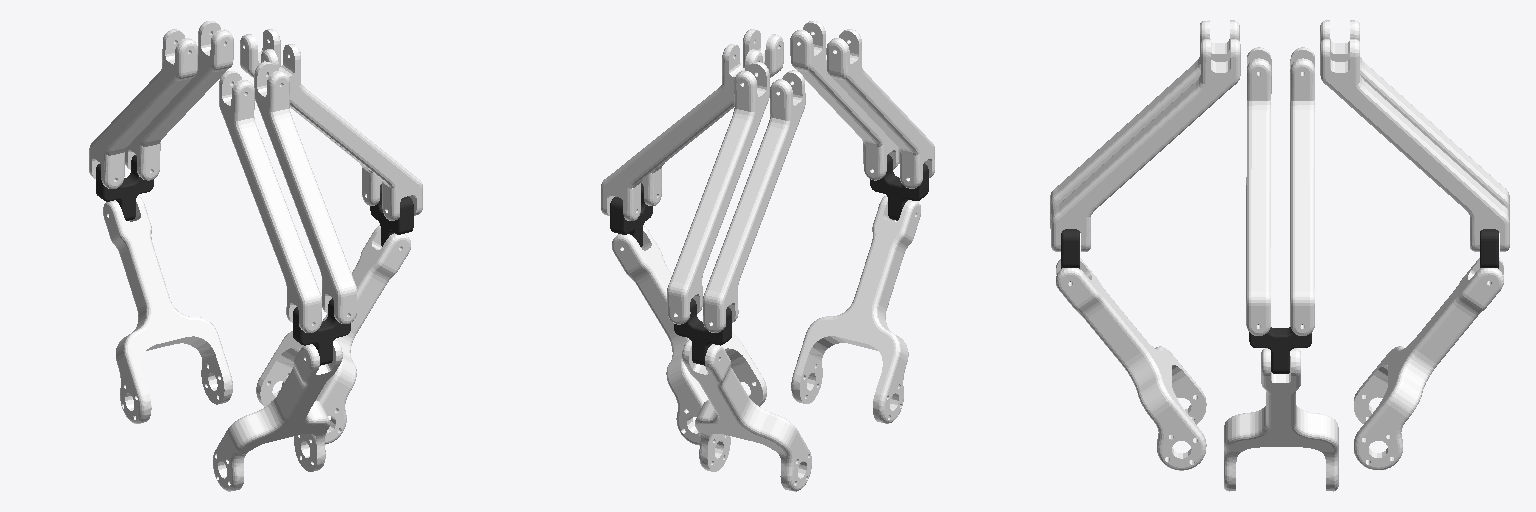
robot.urdf — blue04:
<?xml version="1.0" encoding="utf-8"?>
<!-- This URDF was automatically created by SolidWorks to URDF Exporter! Originally created by [author] ([email redacted]) 
     Commit Version: 1.6.0-1-g15f4949  Build Version: 1.6.7594.29634
     For more information, please see http://wiki.ros.org/sw_urdf_exporter -->
<robot
  name="blue04">
  <link
    name="base_link">
    <inertial>
      <origin
        xyz="0.00018086 0.0010067 0.018019"
        rpy="0 0 0" />
      <mass
        value="0.22207" />
      <inertia
        ixx="0.00013052"
        ixy="2.0278E-08"
        ixz="4.1118E-07"
        iyy="0.00024183"
        iyz="-1.5117E-06"
        izz="0.00033067" />
    </inertial>
    <visual>
      <origin
        xyz="0 0 0"
        rpy="0 0 0" />
      <geometry>
        <mesh
          filename="package://blue04/meshes/base_link.STL" />
      </geometry>
      <material
        name="">
        <color
          rgba="0.75294 0.75294 0.75294 1" />
      </material>
    </visual>
    <collision>
      <origin
        xyz="0 0 0"
        rpy="0 0 0" />
      <geometry>
        <mesh
          filename="package://blue04/meshes/base_link.STL" />
      </geometry>
    </collision>
  </link>
  <link
    name="Link11">
    <inertial>
      <origin
        xyz="0.034317 0.0034451 1.1483E-10"
        rpy="0 0 0" />
      <mass
        value="0.016849" />
      <inertia
        ixx="2.7733E-06"
        ixy="-3.2211E-07"
        ixz="2.2254E-12"
        iyy="1.215E-05"
        iyz="4.9643E-13"
        izz="9.9216E-06" />
    </inertial>
    <visual>
      <origin
        xyz="0 0 0"
        rpy="0 0 0" />
      <geometry>
        <mesh
          filename="package://blue04/meshes/Link11.STL" />
      </geometry>
      <material
        name="11">
        <color
          rgba="1 1 1 1" />
      </material>
    </visual>
    <collision>
      <origin
        xyz="0 0 0"
        rpy="0 0 0" />
      <geometry>
        <mesh
          filename="package://blue04/meshes/Link11.STL" />
      </geometry>
    </collision>
  </link>
  <joint
    name="Joint11"
    type="revolute">
    <origin
      xyz="0.028 -0.0395 0.040325"
      rpy="1.5708 -0.93176 -1.5708" />
    <parent
      link="base_link" />
    <child
      link="Link11" />
    <axis
      xyz="0 0 -1" />
    <limit
      lower="-1.57"
      upper="1.57"
      effort="10"
      velocity="10" />
  </joint>
  <link
    name="Link21">
    <inertial>
      <origin
        xyz="0.011918 1.7764E-15 -9.6798E-16"
        rpy="0 0 0" />
      <mass
        value="0.0028359" />
      <inertia
        ixx="1.5845E-07"
        ixy="3.2513E-24"
        ixz="3.4417E-24"
        iyy="2.6992E-07"
        iyz="6.8233E-25"
        izz="1.3803E-07" />
    </inertial>
    <visual>
      <origin
        xyz="0 0 0"
        rpy="0 0 0" />
      <geometry>
        <mesh
          filename="package://blue04/meshes/Link21.STL" />
      </geometry>
      <material
        name="">
        <color
          rgba="0.25098 0.25098 0.25098 1" />
      </material>
    </visual>
    <collision>
      <origin
        xyz="0 0 0"
        rpy="0 0 0" />
      <geometry>
        <mesh
          filename="package://blue04/meshes/Link21.STL" />
      </geometry>
    </collision>
  </link>
  <joint
    name="Joint21"
    type="revolute">
    <origin
      xyz="0.08 0.004 -0.0002"
      rpy="0 0 0.63903" />
    <parent
      link="Link11" />
    <child
      link="Link21" />
    <axis
      xyz="0 0 1" />
    <limit
      lower="-1.57"
      upper="1.57"
      effort="10"
      velocity="10" />
  </joint>
  <link
    name="Link31">
    <inertial>
      <origin
        xyz="0.042 -8.405E-09 0.03"
        rpy="0 0 0" />
      <mass
        value="0.011548" />
      <inertia
        ixx="5.7245E-06"
        ixy="5.1373E-22"
        ixz="-6.0561E-06"
        iyy="1.2541E-05"
        iyz="1.2763E-22"
        izz="6.9973E-06" />
    </inertial>
    <visual>
      <origin
        xyz="0 0 0"
        rpy="0 0 0" />
      <geometry>
        <mesh
          filename="package://blue04/meshes/Link31.STL" />
      </geometry>
      <material
        name="">
        <color
          rgba="1 1 1 1" />
      </material>
    </visual>
    <collision>
      <origin
        xyz="0 0 0"
        rpy="0 0 0" />
      <geometry>
        <mesh
          filename="package://blue04/meshes/Link31.STL" />
      </geometry>
    </collision>
  </link>
  <joint
    name="Joint31"
    type="revolute">
    <origin
      xyz="0.02 0.0002 -0.0088"
      rpy="-1.5708 0.018138 0" />
    <parent
      link="Link21" />
    <child
      link="Link31" />
    <axis
      xyz="0 0 1" />
    <limit
      lower="-1.57"
      upper="1.57"
      effort="10"
      velocity="10" />
  </joint>
  <link
    name="Link32">
    <inertial>
      <origin
        xyz="0.042 -8.405E-09 0.03"
        rpy="0 0 0" />
      <mass
        value="0.011548" />
      <inertia
        ixx="5.7245E-06"
        ixy="-5.4987E-22"
        ixz="-6.0561E-06"
        iyy="1.2541E-05"
        iyz="-6.0019E-22"
        izz="6.9973E-06" />
    </inertial>
    <visual>
      <origin
        xyz="0 0 0"
        rpy="0 0 0" />
      <geometry>
        <mesh
          filename="package://blue04/meshes/Link32.STL" />
      </geometry>
      <material
        name="">
        <color
          rgba="1 1 1 1" />
      </material>
    </visual>
    <collision>
      <origin
        xyz="0 0 0"
        rpy="0 0 0" />
      <geometry>
        <mesh
          filename="package://blue04/meshes/Link32.STL" />
      </geometry>
    </collision>
  </link>
  <joint
    name="Joint32"
    type="revolute">
    <origin
      xyz="0.02 -0.0002 0.0088"
      rpy="-1.5708 0.018138 0" />
    <parent
      link="Link21" />
    <child
      link="Link32" />
    <axis
      xyz="0 0 1" />
    <limit
      lower="-1.57"
      upper="1.57"
      effort="10"
      velocity="10" />
  </joint>
  <link
    name="Link12">
    <inertial>
      <origin
        xyz="0.034317 0.0034451 1.1481E-10"
        rpy="0 0 0" />
      <mass
        value="0.016849" />
      <inertia
        ixx="2.7733E-06"
        ixy="-3.2211E-07"
        ixz="2.2254E-12"
        iyy="1.215E-05"
        iyz="4.9643E-13"
        izz="9.9216E-06" />
    </inertial>
    <visual>
      <origin
        xyz="0 0 0"
        rpy="0 0 0" />
      <geometry>
        <mesh
          filename="package://blue04/meshes/Link12.STL" />
      </geometry>
      <material
        name="">
        <color
          rgba="1 1 1 1" />
      </material>
    </visual>
    <collision>
      <origin
        xyz="0 0 0"
        rpy="0 0 0" />
      <geometry>
        <mesh
          filename="package://blue04/meshes/Link12.STL" />
      </geometry>
    </collision>
  </link>
  <joint
    name="Joint12"
    type="revolute">
    <origin
      xyz="0.0278 0.0395 0.040325"
      rpy="1.5708 -0.93185 1.5708" />
    <parent
      link="base_link" />
    <child
      link="Link12" />
    <axis
      xyz="0 0 -1" />
    <limit
      lower="-1.57"
      upper="1.57"
      effort="10"
      velocity="10" />
  </joint>
  <link
    name="Link22">
    <inertial>
      <origin
        xyz="0.011918 -1.6515E-15 -1.7347E-17"
        rpy="0 0 0" />
      <mass
        value="0.0028359" />
      <inertia
        ixx="1.5845E-07"
        ixy="-7.4059E-24"
        ixz="-1.1722E-23"
        iyy="2.6992E-07"
        iyz="-4.0168E-24"
        izz="1.3803E-07" />
    </inertial>
    <visual>
      <origin
        xyz="0 0 0"
        rpy="0 0 0" />
      <geometry>
        <mesh
          filename="package://blue04/meshes/Link22.STL" />
      </geometry>
      <material
        name="">
        <color
          rgba="0.25098 0.25098 0.25098 1" />
      </material>
    </visual>
    <collision>
      <origin
        xyz="0 0 0"
        rpy="0 0 0" />
      <geometry>
        <mesh
          filename="package://blue04/meshes/Link22.STL" />
      </geometry>
    </collision>
  </link>
  <joint
    name="Joint22"
    type="revolute">
    <origin
      xyz="0.08 0.004 0.0002"
      rpy="0 0 0.63895" />
    <parent
      link="Link12" />
    <child
      link="Link22" />
    <axis
      xyz="0 0 -1" />
    <limit
      lower="-1.57"
      upper="1.57"
      effort="10"
      velocity="10" />
  </joint>
  <link
    name="Link33">
    <inertial>
      <origin
        xyz="0.042 -8.405E-09 0.03"
        rpy="0 0 0" />
      <mass
        value="0.011548" />
      <inertia
        ixx="5.7245E-06"
        ixy="-2.9344E-22"
        ixz="-6.0561E-06"
        iyy="1.2541E-05"
        iyz="-3.351E-22"
        izz="6.9973E-06" />
    </inertial>
    <visual>
      <origin
        xyz="0 0 0"
        rpy="0 0 0" />
      <geometry>
        <mesh
          filename="package://blue04/meshes/Link33.STL" />
      </geometry>
      <material
        name="">
        <color
          rgba="1 1 1 1" />
      </material>
    </visual>
    <collision>
      <origin
        xyz="0 0 0"
        rpy="0 0 0" />
      <geometry>
        <mesh
          filename="package://blue04/meshes/Link33.STL" />
      </geometry>
    </collision>
  </link>
  <joint
    name="Joint33"
    type="revolute">
    <origin
      xyz="0.02 -0.0002 -0.0088"
      rpy="-1.5708 -0.020519 0" />
    <parent
      link="Link22" />
    <child
      link="Link33" />
    <axis
      xyz="0 0 1" />
    <limit
      lower="-1.57"
      upper="1.57"
      effort="10"
      velocity="10" />
  </joint>
  <link
    name="Link34">
    <inertial>
      <origin
        xyz="0.042 -8.405E-09 0.03"
        rpy="0 0 0" />
      <mass
        value="0.011548" />
      <inertia
        ixx="5.7245E-06"
        ixy="2.9358E-22"
        ixz="-6.0561E-06"
        iyy="1.2541E-05"
        iyz="1.1483E-22"
        izz="6.9973E-06" />
    </inertial>
    <visual>
      <origin
        xyz="0 0 0"
        rpy="0 0 0" />
      <geometry>
        <mesh
          filename="package://blue04/meshes/Link34.STL" />
      </geometry>
      <material
        name="">
        <color
          rgba="1 1 1 1" />
      </material>
    </visual>
    <collision>
      <origin
        xyz="0 0 0"
        rpy="0 0 0" />
      <geometry>
        <mesh
          filename="package://blue04/meshes/Link34.STL" />
      </geometry>
    </collision>
  </link>
  <joint
    name="Joint34"
    type="revolute">
    <origin
      xyz="0.02 -0.0002 0.0088"
      rpy="-1.5708 -0.020519 0" />
    <parent
      link="Link22" />
    <child
      link="Link34" />
    <axis
      xyz="0 0 1" />
    <limit
      lower="-1.57"
      upper="1.57"
      effort="10"
      velocity="10" />
  </joint>
  <link
    name="Link13">
    <inertial>
      <origin
        xyz="0.034317 0.0034451 1.1491E-10"
        rpy="0 0 0" />
      <mass
        value="0.016849" />
      <inertia
        ixx="2.7733E-06"
        ixy="-3.2211E-07"
        ixz="2.2254E-12"
        iyy="1.215E-05"
        iyz="4.9643E-13"
        izz="9.9216E-06" />
    </inertial>
    <visual>
      <origin
        xyz="0 0 0"
        rpy="0 0 0" />
      <geometry>
        <mesh
          filename="package://blue04/meshes/Link13.STL" />
      </geometry>
      <material
        name="">
        <color
          rgba="1 1 1 1" />
      </material>
    </visual>
    <collision>
      <origin
        xyz="0 0 0"
        rpy="0 0 0" />
      <geometry>
        <mesh
          filename="package://blue04/meshes/Link13.STL" />
      </geometry>
    </collision>
  </link>
  <joint
    name="Joint13"
    type="revolute">
    <origin
      xyz="0.067 0.0005 0.040325"
      rpy="1.5708 -0.93145 0" />
    <parent
      link="base_link" />
    <child
      link="Link13" />
    <axis
      xyz="0 0 -1" />
    <limit
      lower="-1.57"
      upper="1.57"
      effort="10"
      velocity="10" />
  </joint>
  <link
    name="Link23">
    <inertial>
      <origin
        xyz="0.011918 6.9389E-17 3.6321E-18"
        rpy="0 0 0" />
      <mass
        value="0.0028359" />
      <inertia
        ixx="1.5845E-07"
        ixy="-1.8628E-24"
        ixz="-1.2804E-23"
        iyy="2.6992E-07"
        iyz="1.5483E-23"
        izz="1.3803E-07" />
    </inertial>
    <visual>
      <origin
        xyz="0 0 0"
        rpy="0 0 0" />
      <geometry>
        <mesh
          filename="package://blue04/meshes/Link23.STL" />
      </geometry>
      <material
        name="">
        <color
          rgba="0.25098 0.25098 0.25098 1" />
      </material>
    </visual>
    <collision>
      <origin
        xyz="0 0 0"
        rpy="0 0 0" />
      <geometry>
        <mesh
          filename="package://blue04/meshes/Link23.STL" />
      </geometry>
    </collision>
  </link>
  <joint
    name="Joint23"
    type="revolute">
    <origin
      xyz="0.08 0.004 0.0002"
      rpy="0 0 0.63934" />
    <parent
      link="Link13" />
    <child
      link="Link23" />
    <axis
      xyz="0 0 1" />
    <limit
      lower="-1.57"
      upper="1.57"
      effort="10"
      velocity="10" />
  </joint>
  <link
    name="Link35">
    <inertial>
      <origin
        xyz="0.042 -8.405E-09 0.03"
        rpy="0 0 0" />
      <mass
        value="0.011548" />
      <inertia
        ixx="5.7245E-06"
        ixy="5.4883E-22"
        ixz="-6.0561E-06"
        iyy="1.2541E-05"
        iyz="1.353E-22"
        izz="6.9973E-06" />
    </inertial>
    <visual>
      <origin
        xyz="0 0 0"
        rpy="0 0 0" />
      <geometry>
        <mesh
          filename="package://blue04/meshes/Link35.STL" />
      </geometry>
      <material
        name="">
        <color
          rgba="1 1 1 1" />
      </material>
    </visual>
    <collision>
      <origin
        xyz="0 0 0"
        rpy="0 0 0" />
      <geometry>
        <mesh
          filename="package://blue04/meshes/Link35.STL" />
      </geometry>
    </collision>
  </link>
  <joint
    name="Joint35"
    type="revolute">
    <origin
      xyz="0.02 -0.0002 -0.0088"
      rpy="-1.5708 0.001156 0" />
    <parent
      link="Link23" />
    <child
      link="Link35" />
    <axis
      xyz="0 0 1" />
    <limit
      lower="-1.57"
      upper="1.57"
      effort="10"
      velocity="10" />
  </joint>
  <link
    name="Link36">
    <inertial>
      <origin
        xyz="0.042 -8.405E-09 0.03"
        rpy="0 0 0" />
      <mass
        value="0.011548" />
      <inertia
        ixx="5.7245E-06"
        ixy="-1.5468E-22"
        ixz="-6.0561E-06"
        iyy="1.2541E-05"
        iyz="6.6639E-23"
        izz="6.9973E-06" />
    </inertial>
    <visual>
      <origin
        xyz="0 0 0"
        rpy="0 0 0" />
      <geometry>
        <mesh
          filename="package://blue04/meshes/Link36.STL" />
      </geometry>
      <material
        name="">
        <color
          rgba="1 1 1 1" />
      </material>
    </visual>
    <collision>
      <origin
        xyz="0 0 0"
        rpy="0 0 0" />
      <geometry>
        <mesh
          filename="package://blue04/meshes/Link36.STL" />
      </geometry>
    </collision>
  </link>
  <joint
    name="Joint36"
    type="revolute">
    <origin
      xyz="0.02 -0.0002 0.0088"
      rpy="-1.5708 0.001156 0" />
    <parent
      link="Link23" />
    <child
      link="Link36" />
    <axis
      xyz="0 0 1" />
    <limit
      lower="-1.57"
      upper="1.57"
      effort="10"
      velocity="10" />
  </joint>
</robot>

--- Render facts (derived) ---
3 views of the same robot in one strip: view 1: azimuth 30°, elevation 25°; view 2: azimuth 150°, elevation 25°; view 3: azimuth 270°, elevation 25° (orthographic).
Robot: blue04 — 13 links, 12 joints (12 revolute); root link base_link; default pose: every joint at zero.
Visible links, largest first — view 1: Link12, Link32, Link31, Link11, Link13, Link33, Link36, Link34, Link35, Link21, Link22, Link23; view 2: Link11, Link34, Link33, Link12, Link13, Link32, Link35, Link31, Link36, Link22, Link21, Link23; view 3: Link11, Link12, Link34, Link31, Link35, Link36, Link13, Link32, Link33, Link23, Link22, Link21.
Boxes of the visible links, <box> form: Link12: <box>103,196,232,423</box>; Link32: <box>219,71,321,332</box>; Link31: <box>254,62,356,323</box>; Link11: <box>213,340,342,491</box>; Link13: <box>256,225,410,444</box>; Link33: <box>89,29,197,188</box>; Link36: <box>261,44,422,220</box>; Link34: <box>125,21,233,180</box>; Link35: <box>240,29,381,205</box>; Link21: <box>293,298,350,365</box>; Link22: <box>96,155,153,220</box>; Link23: <box>370,184,413,246</box>; Link11: <box>791,195,920,423</box>; Link34: <box>667,62,769,324</box>; Link33: <box>703,70,805,332</box>; Link12: <box>682,339,811,491</box>; Link13: <box>612,226,766,445</box>; Link32: <box>826,29,934,188</box>; Link35: <box>601,44,762,220</box>; Link31: <box>790,21,898,180</box>; Link36: <box>641,29,783,205</box>; Link22: <box>674,298,731,365</box>; Link21: <box>870,154,928,220</box>; Link23: <box>610,183,652,246</box>; Link11: <box>1056,258,1206,470</box>; Link12: <box>1354,258,1503,469</box>; Link34: <box>1320,39,1509,251</box>; Link31: <box>1051,39,1240,251</box>; Link35: <box>1290,47,1314,335</box>; Link36: <box>1246,47,1271,335</box>; Link13: <box>1224,348,1338,491</box>; Link32: <box>1050,20,1239,232</box>; Link33: <box>1320,20,1509,213</box>; Link23: <box>1249,324,1311,373</box>; Link22: <box>1480,229,1498,268</box>; Link21: <box>1061,229,1079,281</box>.
Bounding box of the posed robot: 0.1149 × 0.1844 × 0.1856 m (x, y, z).
12 mesh visuals loaded from 13 distinct referenced files (12 binary STL); not drawn: 1 (reference not matched to a file when rendering).